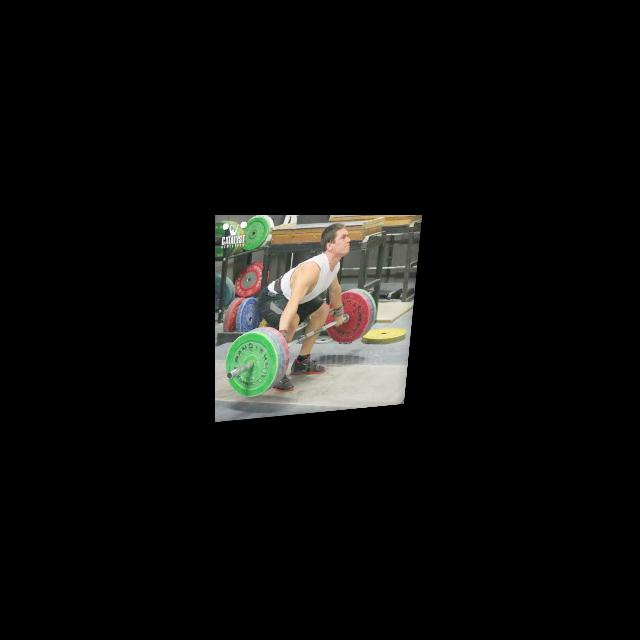barbell: (223, 329, 284, 402)
